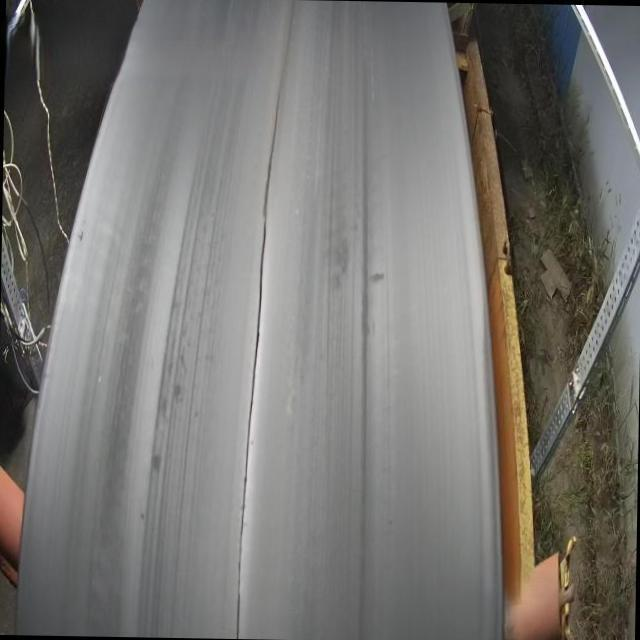Tear: (232, 0, 300, 640)
